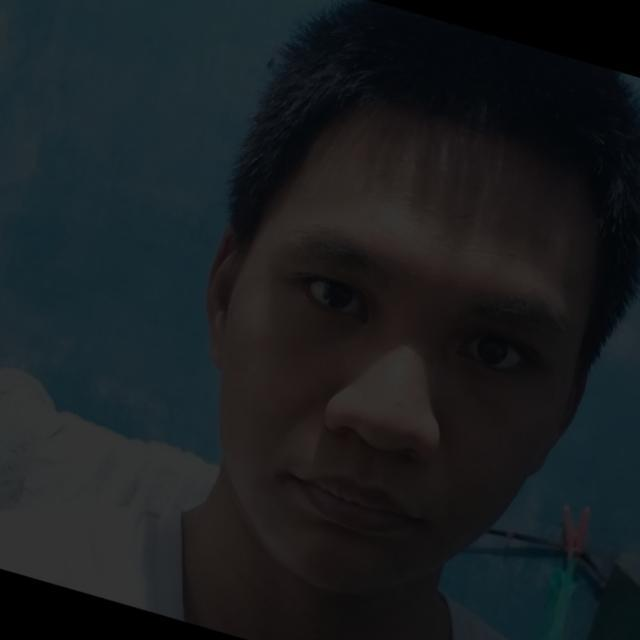Natural: (146, 129, 584, 561)
